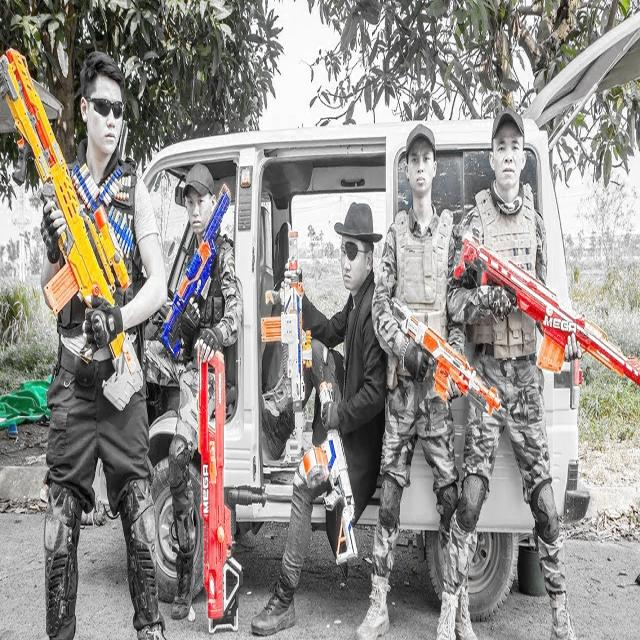Nerf gun: (0, 31, 146, 417), (451, 232, 639, 396), (189, 329, 252, 638), (381, 289, 507, 422), (154, 177, 233, 365), (257, 217, 314, 469), (300, 376, 360, 572)
